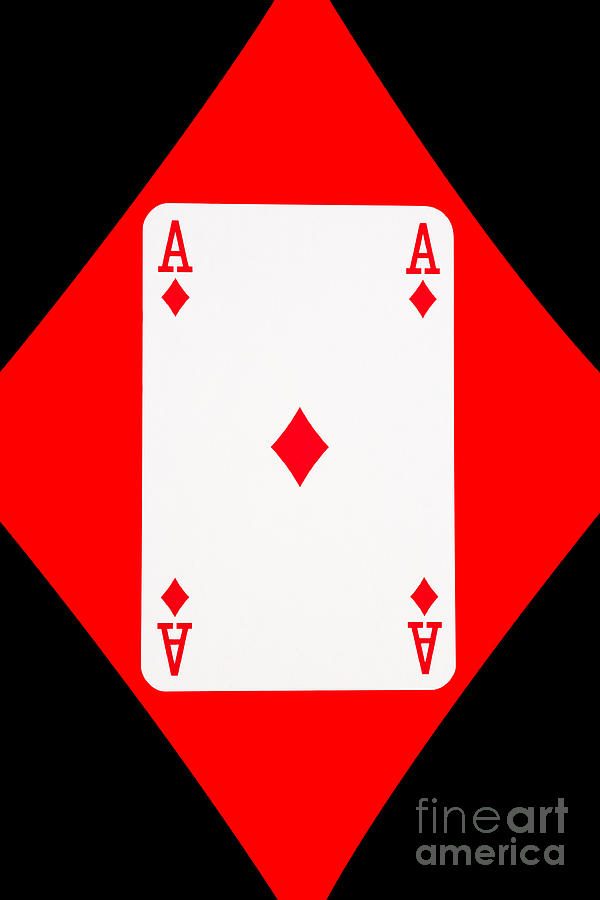ace of diamonds: (144, 206, 455, 686)
